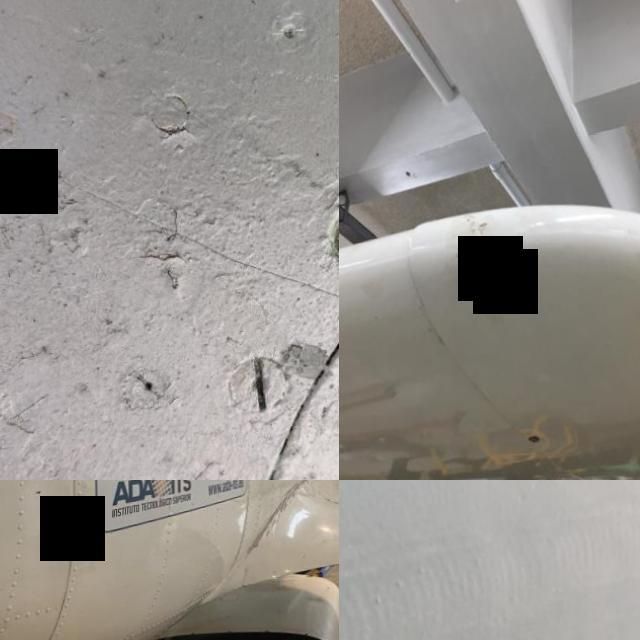Crack: (437, 220, 509, 302), (616, 225, 640, 283), (234, 567, 256, 599), (301, 480, 324, 483)
Missing_Fastener: (296, 180, 339, 307)
